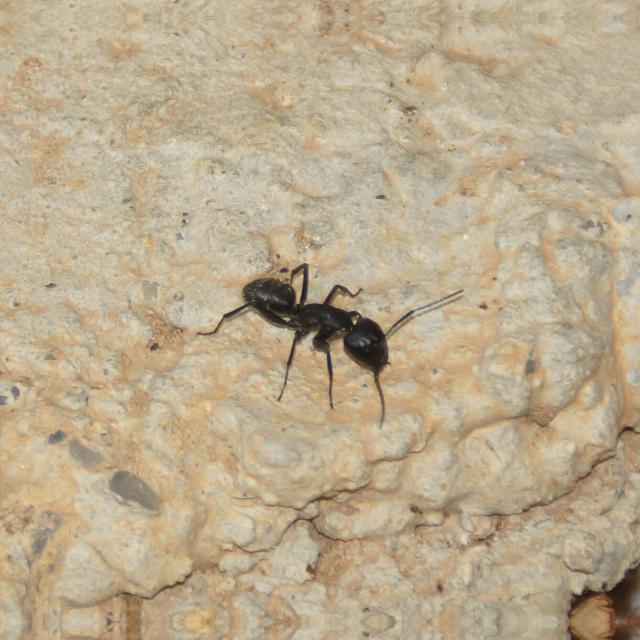Camponotus: (210, 248, 416, 406)
